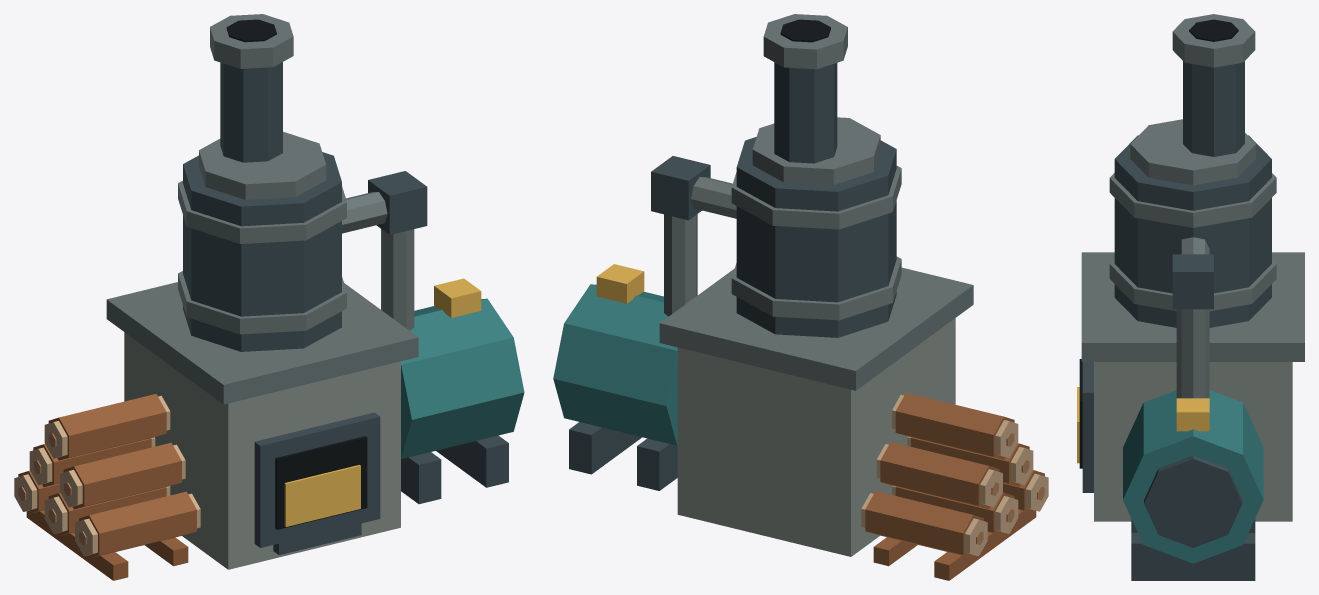
File: burner_generator.glb
3 views of the same model, side by side, from view 1: azimuth 30°, elevation 25°; view 2: azimuth 150°, elevation 25°; view 3: azimuth 270°, elevation 25° (orthographic). The views are drawn at different scales.
Visible parts, largest first — view 1: Burner generator Iron, Burner generator Stone, Burner generator Steel, Burner generator Timber, Burner generator Dark stone, Burner generator Teal, Burner generator Amber, Burner generator Cut wood, Burner generator Firebox; view 2: Burner generator Stone, Burner generator Iron, Burner generator Steel, Burner generator Timber, Burner generator Dark stone, Burner generator Teal, Burner generator Cut wood, Burner generator Amber, Burner generator Firebox; view 3: Burner generator Iron, Burner generator Steel, Burner generator Stone, Burner generator Dark stone, Burner generator Teal, Burner generator Amber, Burner generator Firebox.
Boxes of the visible parts, x1,y1,x2,y2 form: Burner generator Iron: (183,62,508,555); Burner generator Stone: (124,332,400,569); Burner generator Steel: (178,14,414,334); Burner generator Timber: (18,394,196,580); Burner generator Dark stone: (106,282,418,404); Burner generator Teal: (401,298,524,459); Burner generator Amber: (284,278,481,526); Burner generator Cut wood: (14,395,200,556); Burner generator Firebox: (226,19,367,529); Burner generator Stone: (677,318,955,556); Burner generator Iron: (569,62,896,490); Burner generator Steel: (664,14,901,320); Burner generator Timber: (865,392,1044,580); Burner generator Dark stone: (659,267,973,390); Burner generator Teal: (553,284,677,445); Burner generator Cut wood: (861,395,1048,556); Burner generator Amber: (596,264,644,303); Burner generator Firebox: (780,19,830,42); Burner generator Iron: (1082,61,1271,580); Burner generator Steel: (1109,14,1276,398); Burner generator Stone: (1094,362,1292,521); Burner generator Dark stone: (1081,252,1304,361); Burner generator Teal: (1123,390,1263,563); Burner generator Amber: (1077,387,1209,463); Burner generator Firebox: (1079,19,1238,468).
Size of the model in its own units: 1.16 by 1.2 by 0.551.
